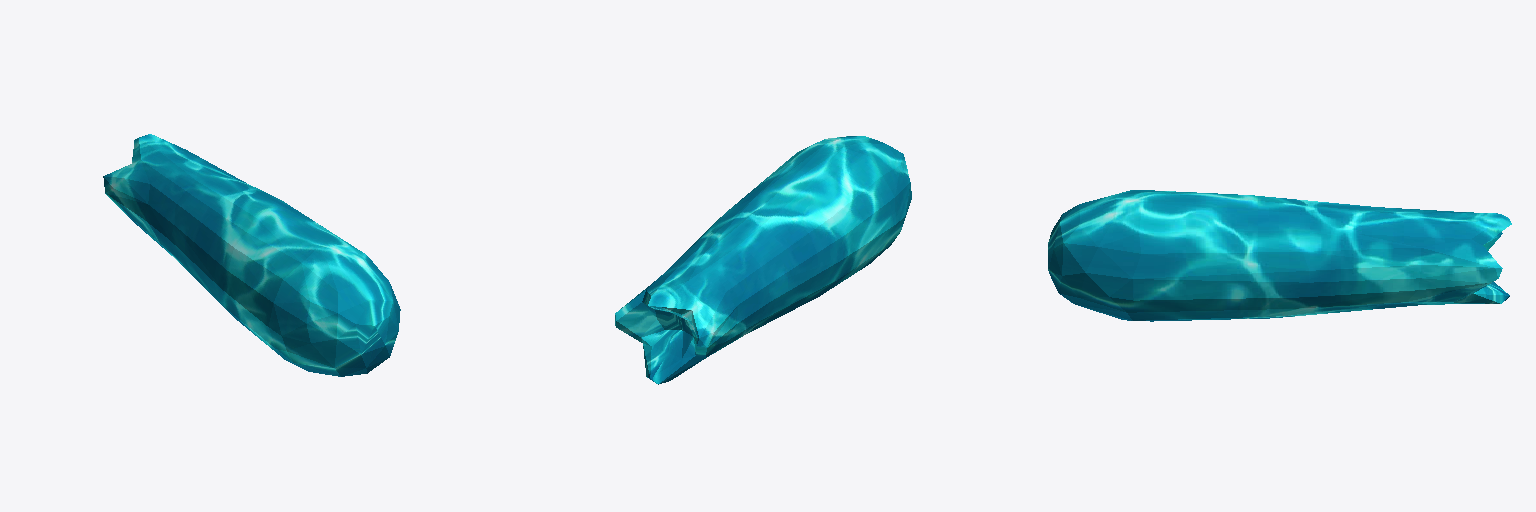
3 renders of one model, left to right at view 1: azimuth 30°, elevation 25°; view 2: azimuth 150°, elevation 25°; view 3: azimuth 270°, elevation 25°, orthographic.
Visible parts, largest first — view 1: Group37240; view 2: Group37240; view 3: Group37240.
Boxes of the visible parts, <box> form: Group37240: <box>103,134,400,376</box>; Group37240: <box>615,136,911,384</box>; Group37240: <box>1048,190,1511,321</box>.
Size of the model in its own units: 1.08 by 1.07 by 3.76.
1 materials, 1 textured.